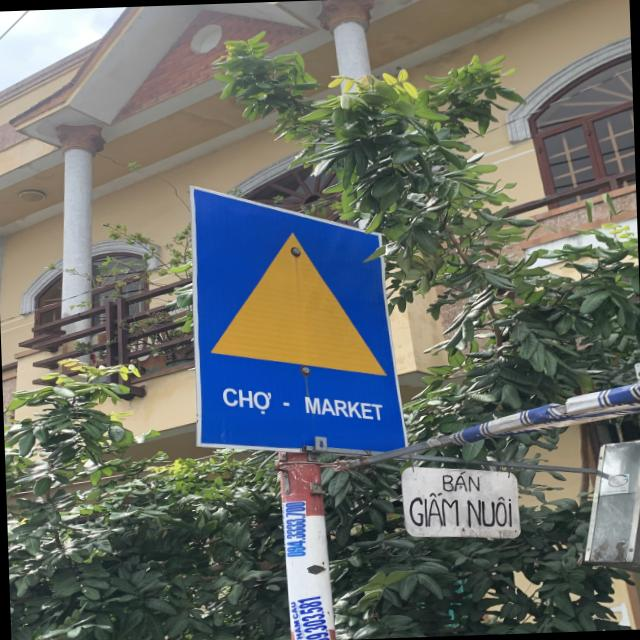Cho_Quay_Xe: (190, 182, 404, 458)
